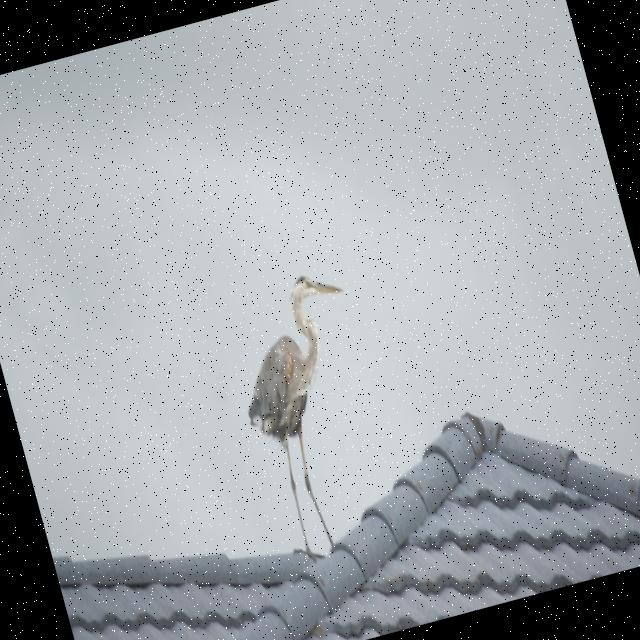bird: (213, 262, 410, 567)
